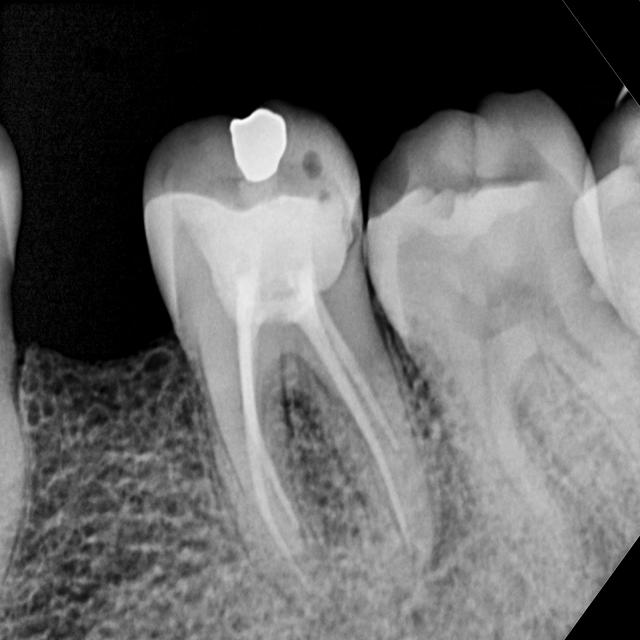Normal: (362, 77, 640, 640)
RCT: (140, 187, 452, 605)
Restoration: (213, 98, 305, 195)
